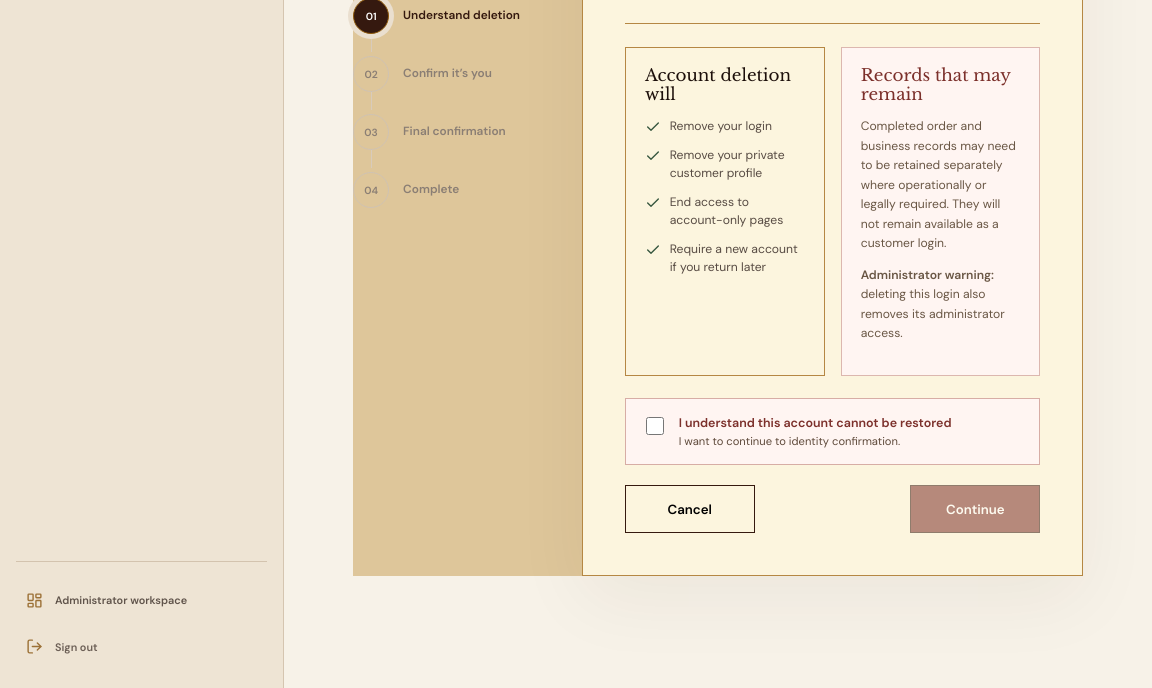
it: account security centre › reauthenticates before the final delete confirmation and prevents one-click deletion
(page scrolled)
Expected: the button "Permanently delete account" is not shown
Click the checkbox at [655, 426], box [646,417,664,435]
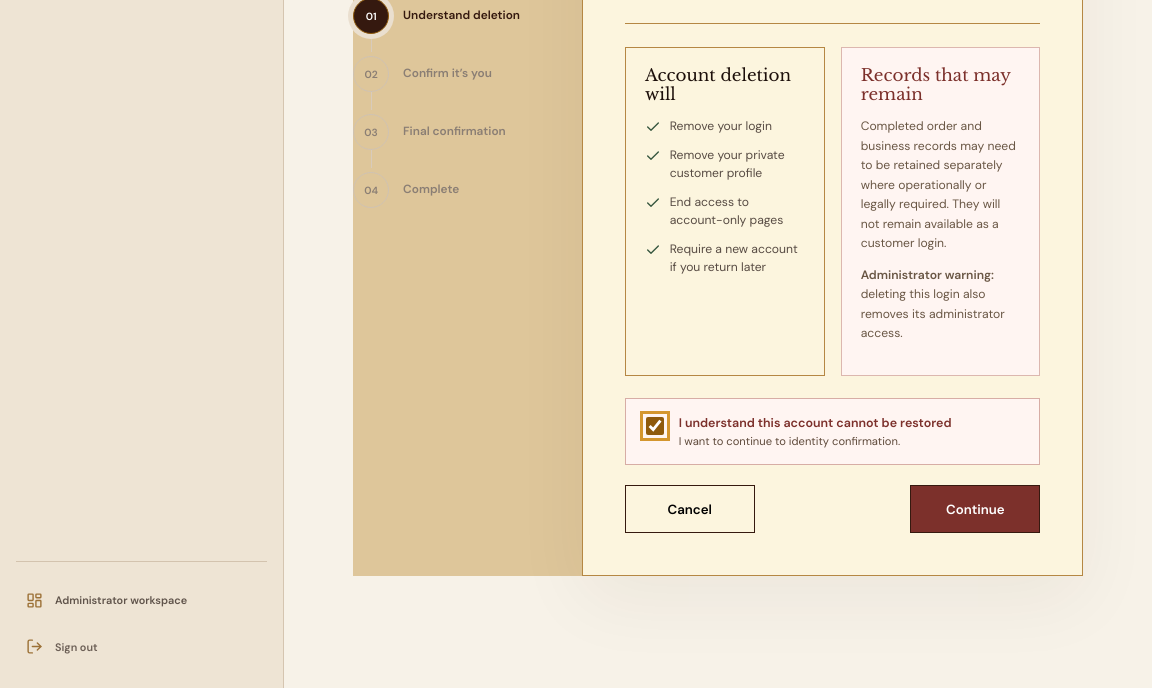
Click the button "Continue" at [975, 509], box [910,485,1040,533]
(page scrolled)
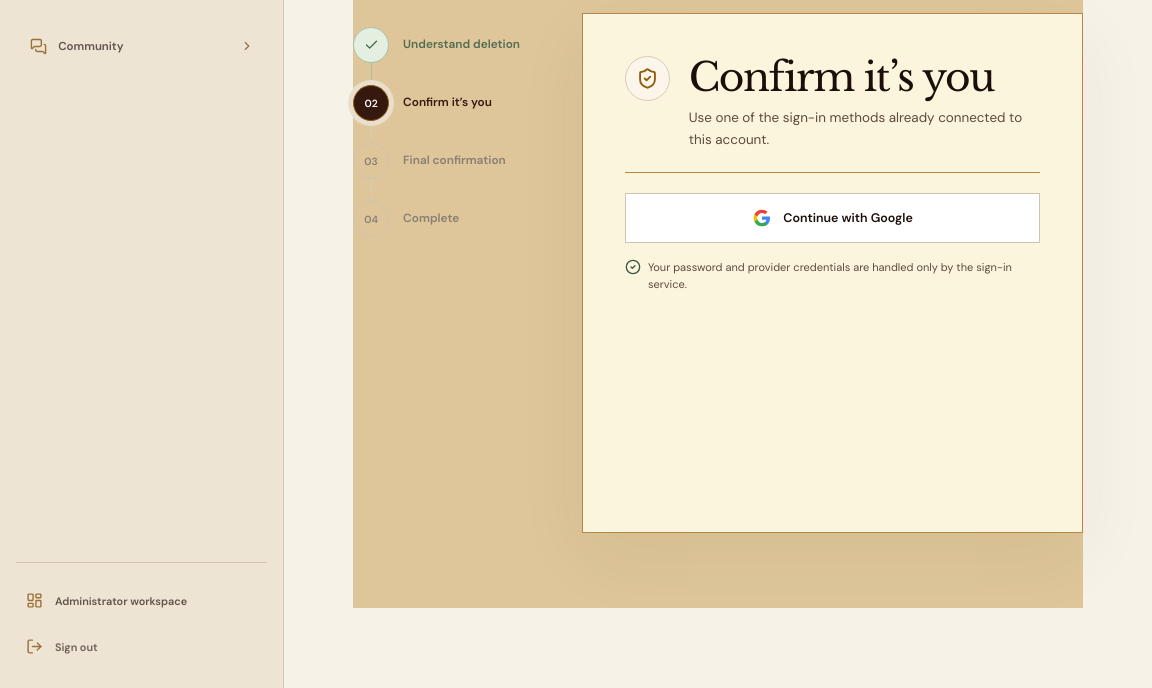
Click the button "Continue with Google" at [832, 218], box [625,193,1040,243]
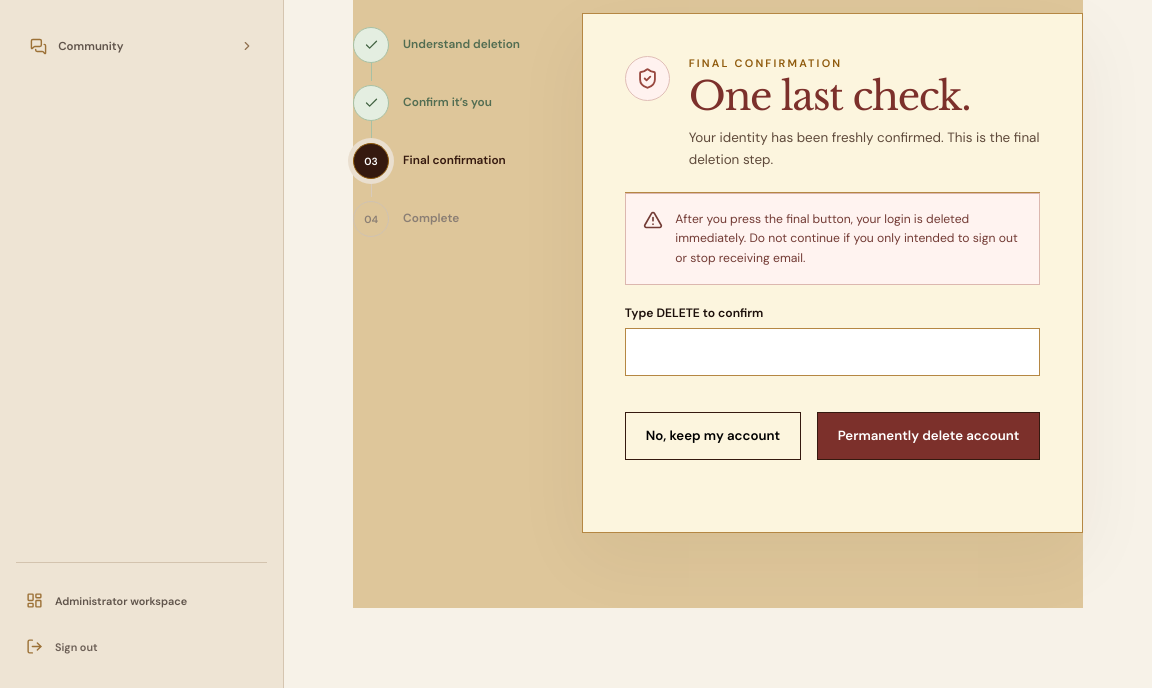
Result: the button "Permanently delete account" is shown at [817,412,1040,460]
Type "DELETE" into the field labelled "Type DELETE to confirm" at [832, 352], box [625,328,1040,376]
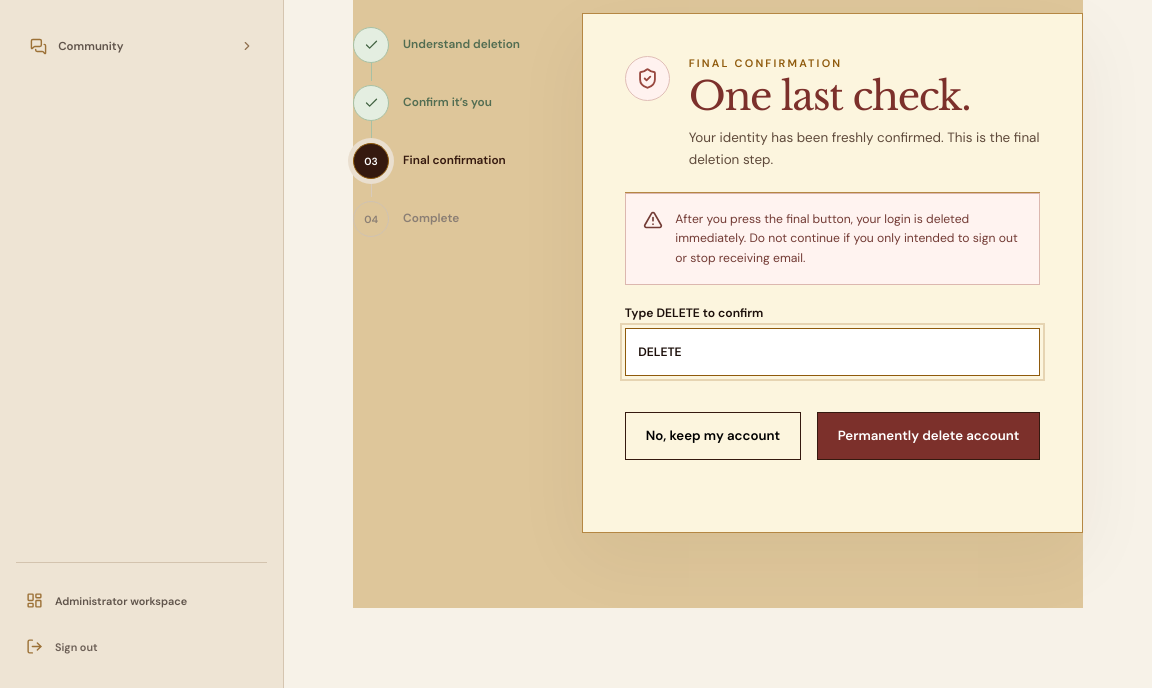
Click the button "Permanently delete account" at [928, 436], box [817,412,1040,460]
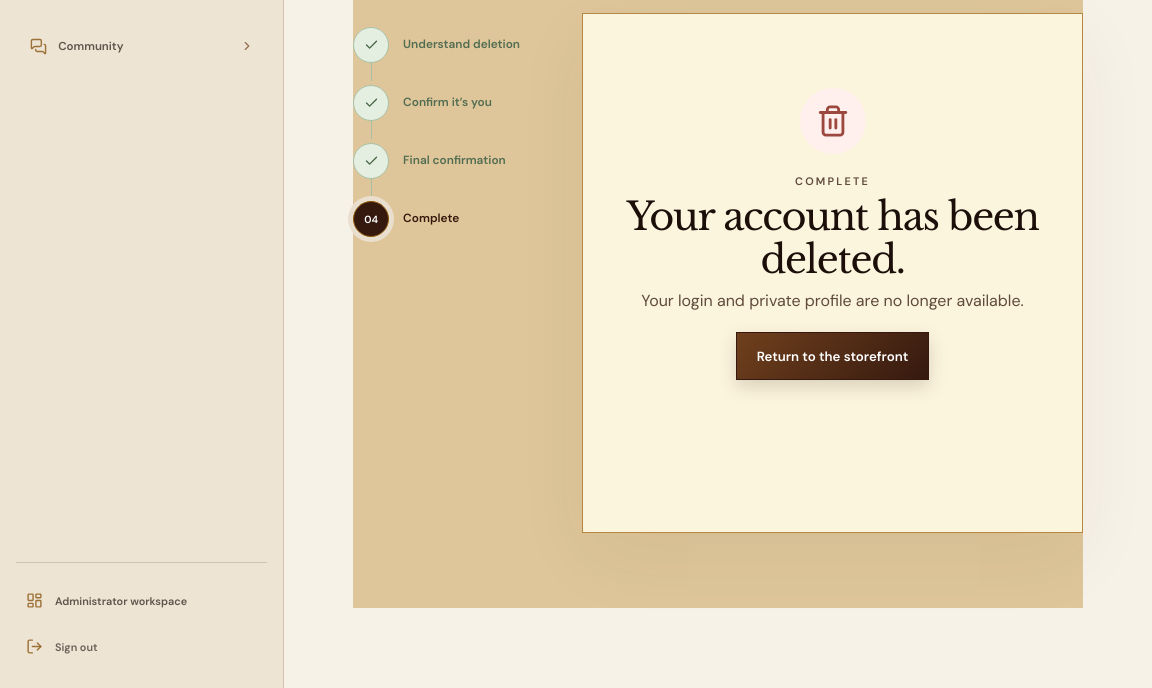
Result: the heading "Your account has been deleted." is shown at [625,195,1040,281]
